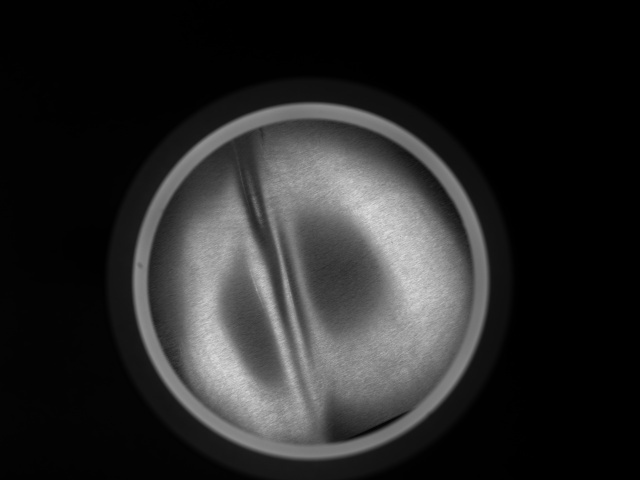zhe_zhou: (191, 144, 425, 414)
